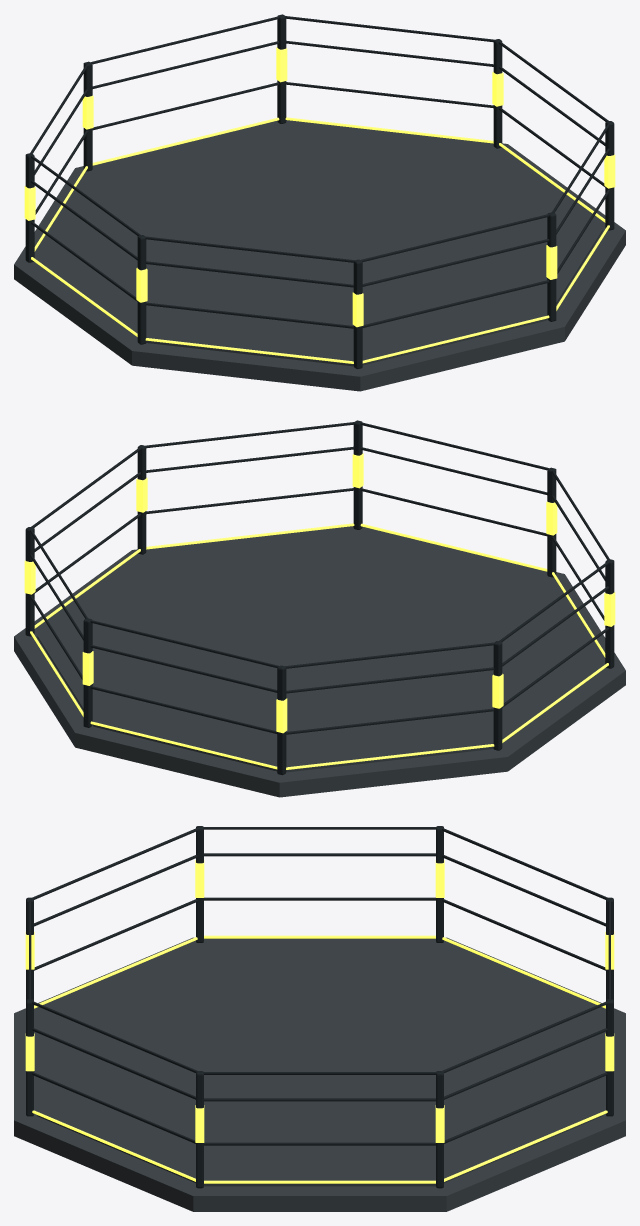
Rendered from arena.glb.
The picture shows the model from 3 angles, top to bottom: view 1: azimuth 30°, elevation 25°; view 2: azimuth 150°, elevation 25°; view 3: azimuth 270°, elevation 25°; orthographic projection. The views are drawn at different scales.
Parts seen in each view (by area): view 1: Inner mat, Octagonal foundation, Corner post.005, Corner post.004, Corner post.006, Corner post.001, Corner post.003, Corner post, Cage rail.003, Cage rail.019, Cage rail, Cage rail.017 (+14 smaller); view 2: Inner mat, Octagonal foundation, Corner post.002, Corner post.003, Corner post.001, Corner post.006, Corner post.004, Corner post.007, Cage rail.011, Cage rail.027, Cage rail.009, Cage rail.010 (+14 smaller); view 3: Inner mat, Octagonal foundation, Cage rail.012, Cage rail.013, Cage rail.014, Cage rail.028, Cage rail.029, Cage rail.030, Cage rail.015, Cage rail.031, Corner post, Corner post.007 (+20 smaller).
Boxes of the visible parts, x1,y1,x2,y2 form: Inner mat: (37, 125, 602, 366); Octagonal foundation: (14, 120, 625, 391); Corner post.005: (353, 259, 362, 369); Corner post.004: (137, 235, 146, 344); Corner post.006: (547, 212, 556, 321); Corner post.001: (277, 14, 286, 123); Corner post.003: (25, 153, 34, 262); Corner post: (493, 39, 502, 148); Cage rail.003: (284, 16, 494, 42); Cage rail.019: (145, 236, 354, 262); Cage rail: (285, 117, 493, 143); Cage rail.017: (145, 302, 353, 328); Inner mat: (37, 531, 602, 772); Octagonal foundation: (14, 526, 625, 797); Corner post.002: (277, 665, 286, 775); Corner post.003: (493, 641, 502, 750); Corner post.001: (83, 618, 92, 727); Corner post.006: (353, 420, 362, 529); Corner post.004: (605, 559, 614, 668); Corner post.007: (137, 445, 146, 554); Cage rail.011: (285, 642, 494, 668); Cage rail.027: (145, 422, 355, 448); Cage rail.009: (286, 708, 494, 734); Cage rail.010: (286, 667, 494, 693); Inner mat: (37, 945, 602, 1186); Octagonal foundation: (14, 937, 625, 1211); Cage rail.012: (204, 935, 435, 938); Cage rail.013: (204, 897, 435, 900); Cage rail.014: (204, 853, 435, 856); Cage rail.028: (204, 1180, 435, 1183); Cage rail.029: (204, 1142, 435, 1145); Cage rail.030: (204, 1098, 435, 1101); Cage rail.015: (202, 827, 437, 829); Cage rail.031: (202, 1072, 437, 1074); Corner post: (436, 1071, 443, 1188); Corner post.007: (196, 1071, 203, 1188).
Size of the model in its own units: 8.78 by 2.11 by 8.78.
